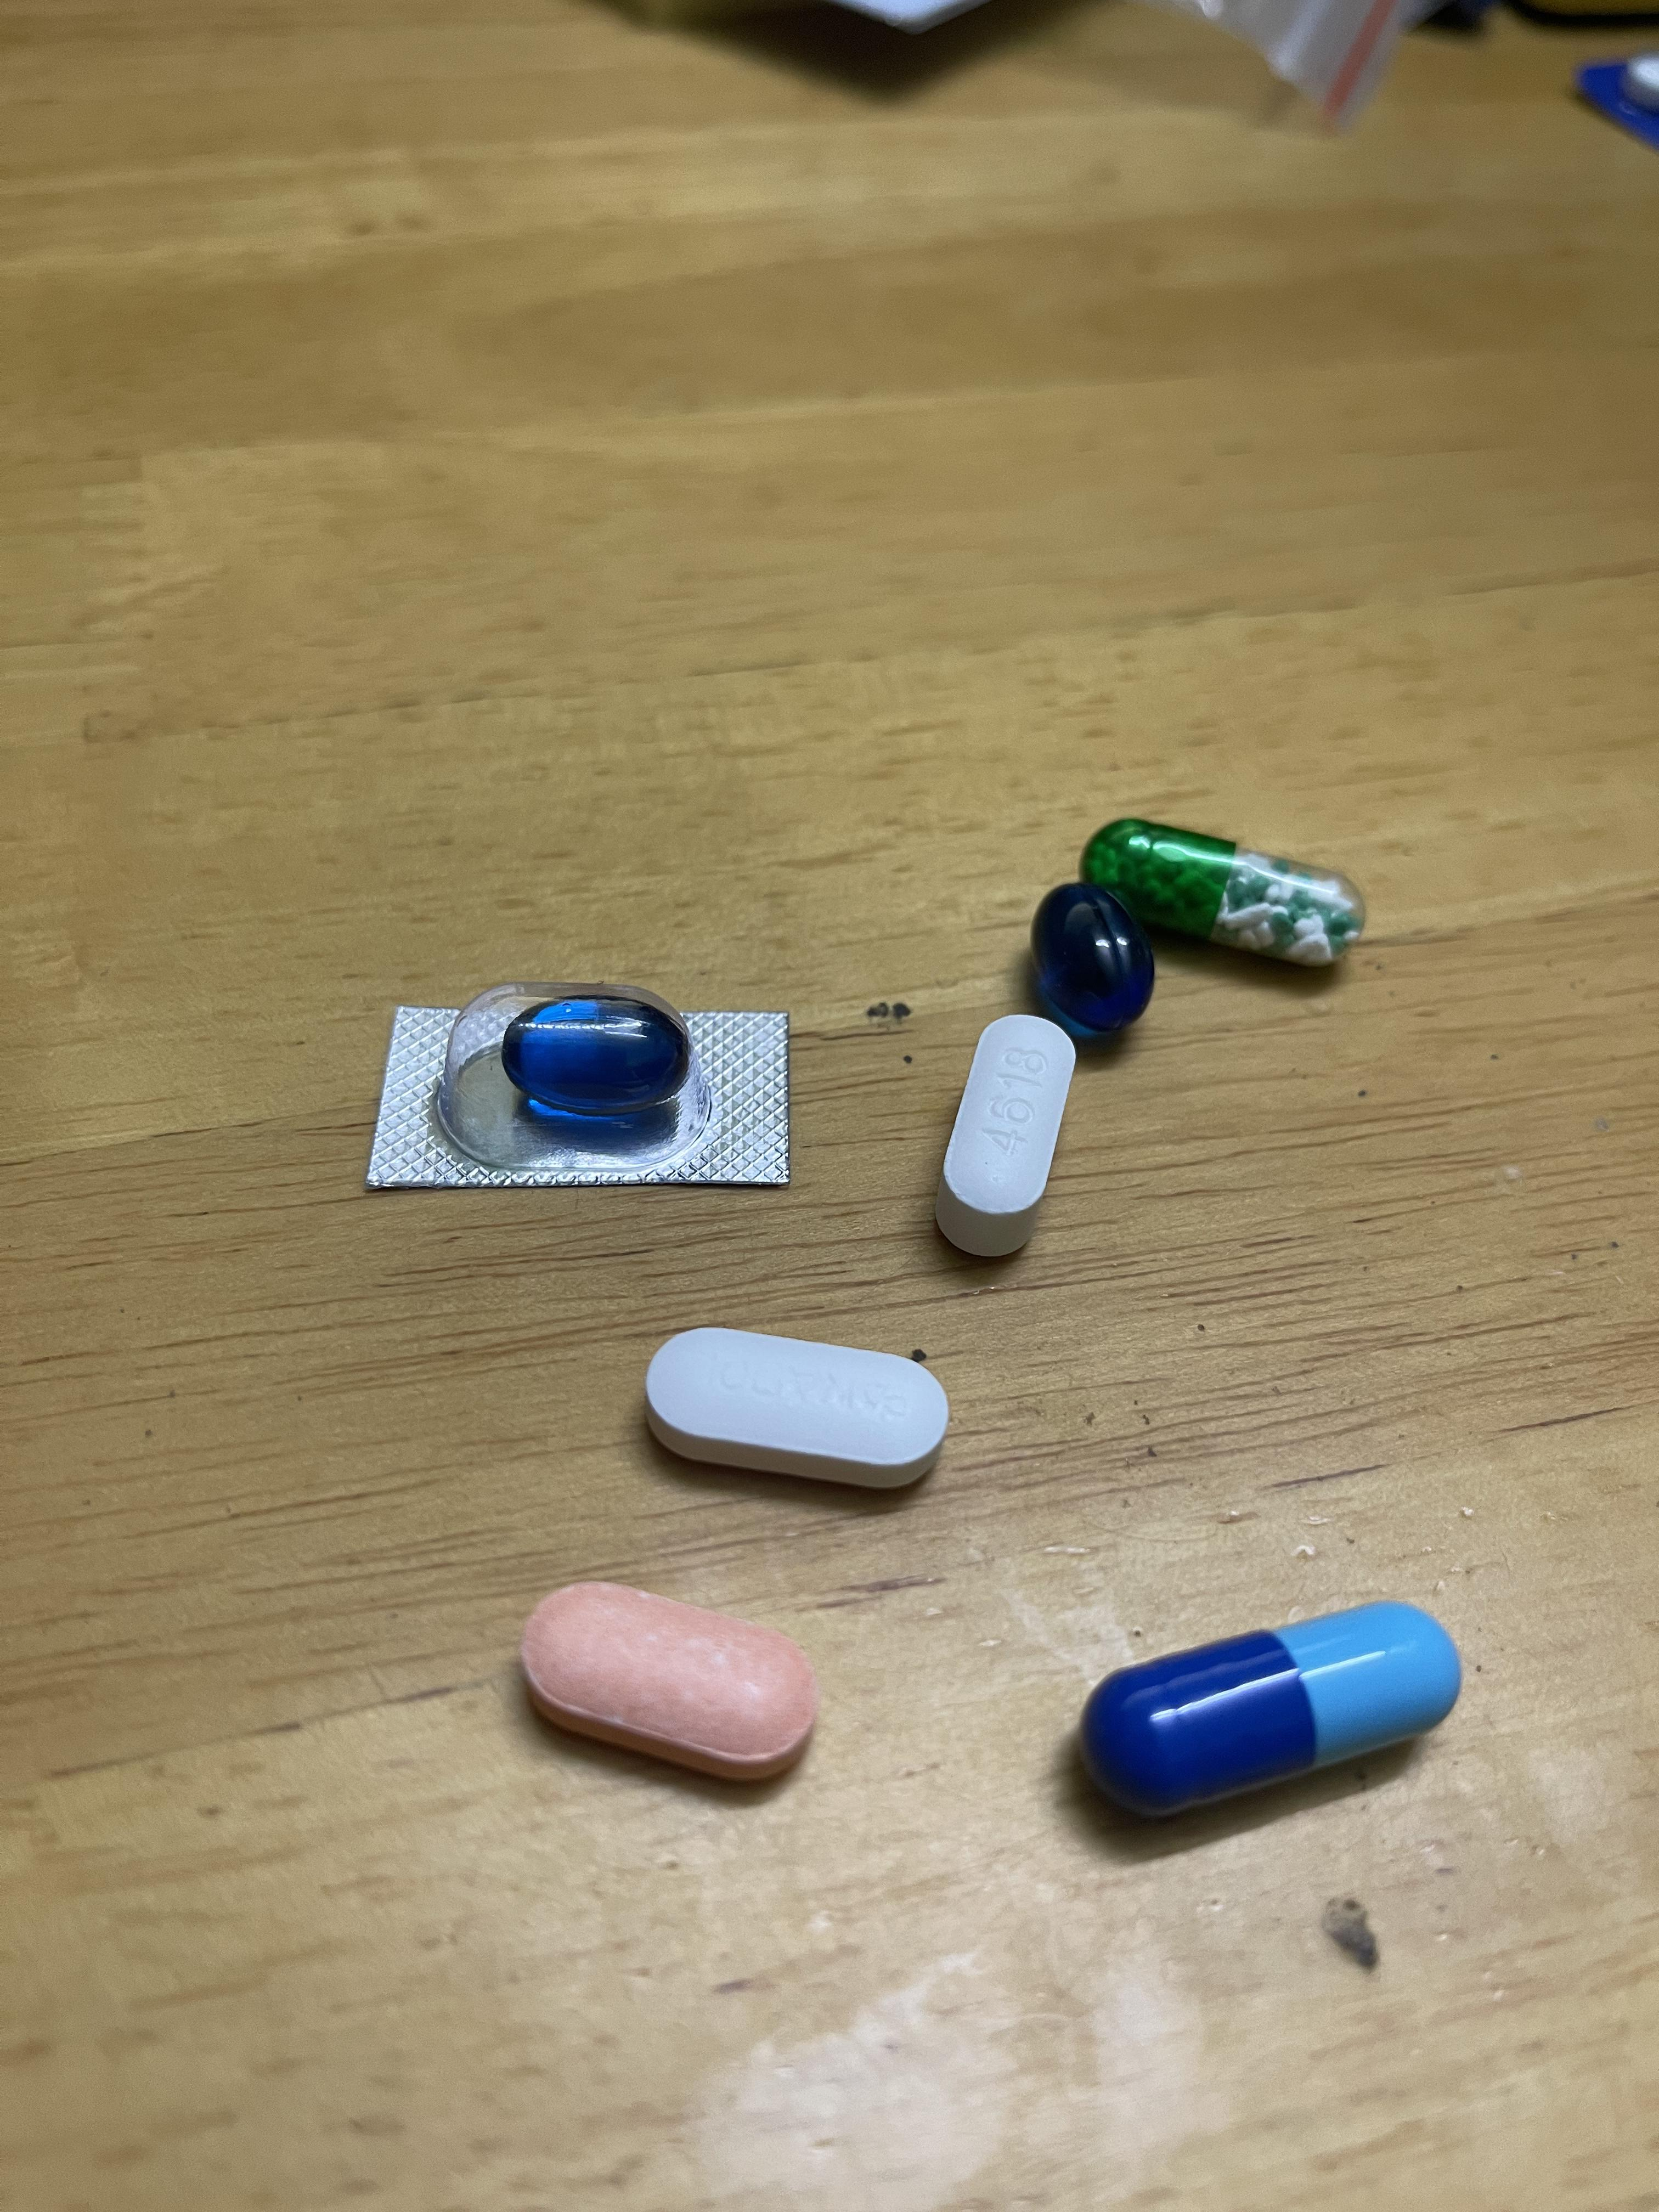Lincomyxin_500mg: (500, 982, 701, 1120), (1033, 880, 1147, 1024)
Loratadine_10mg: (521, 1578, 826, 1785)
Paracetamol_350mg: (648, 1329, 945, 1477)
Paracetamol_500mg: (943, 1012, 1070, 1223)
Paracetamol_650mg: (1089, 824, 1352, 958)
pill: (1096, 1613, 1455, 1810)
